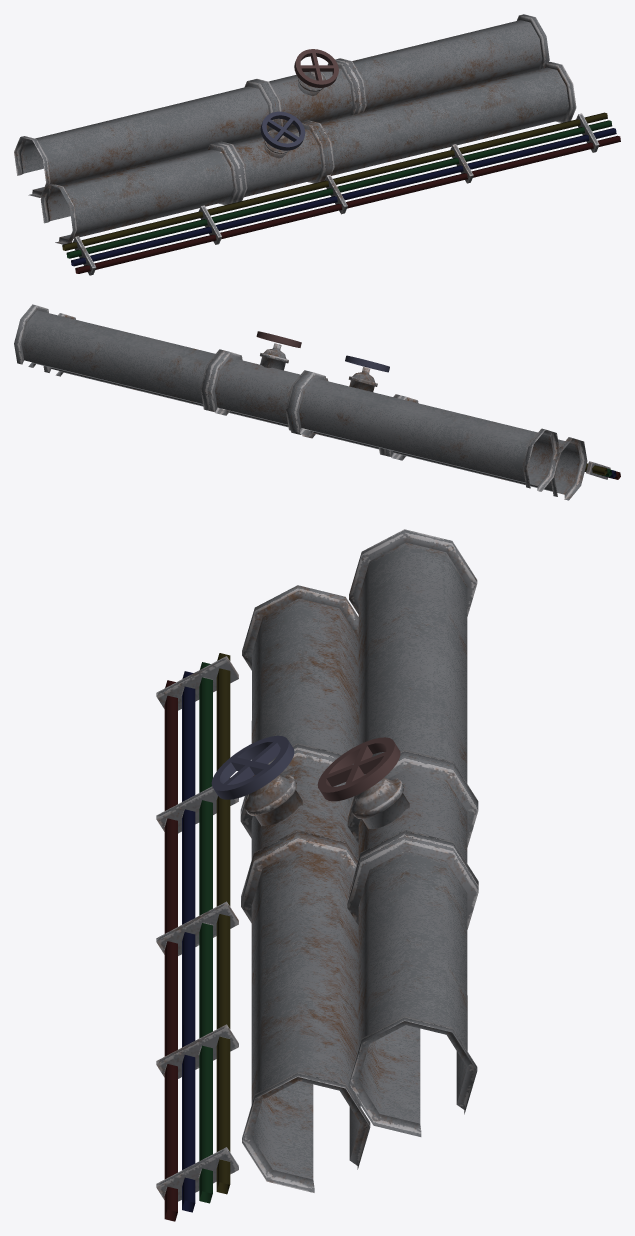
File: PF_StrgPipeNWire.fbx
3 views of the same model, one above another, from view 1: azimuth 30°, elevation 25°; view 2: azimuth 150°, elevation 25°; view 3: azimuth 270°, elevation 25° (orthographic). The views are drawn at different scales.
Visible parts, largest first — view 1: SM_StrgPipeNWire, Wires_001, Cube_016, Cylinder_028, Cylinder_035; view 2: SM_StrgPipeNWire, Cylinder_034, Cylinder_037, Cylinder_028, Cylinder_035; view 3: SM_StrgPipeNWire, Wires_001, Cube_016, Cylinder_035, Cylinder_028, Cylinder_034, Cylinder_037.
Part boxes in pixels (x1=…): SM_StrgPipeNWire: x1=14, y1=14, x2=576, y2=244; Wires_001: x1=62, y1=112, x2=620, y2=273; Cube_016: x1=73, y1=113, x2=599, y2=275; Cylinder_028: x1=294, y1=49, x2=338, y2=87; Cylinder_035: x1=260, y1=111, x2=305, y2=150; SM_StrgPipeNWire: x1=14, y1=304, x2=587, y2=500; Cylinder_034: x1=260, y1=343, x2=288, y2=370; Cylinder_037: x1=348, y1=367, x2=377, y2=391; Cylinder_028: x1=256, y1=331, x2=301, y2=347; Cylinder_035: x1=345, y1=355, x2=389, y2=372; SM_StrgPipeNWire: x1=240, y1=529, x2=478, y2=1192; Wires_001: x1=164, y1=653, x2=230, y2=1221; Cube_016: x1=156, y1=656, x2=238, y2=1201; Cylinder_035: x1=211, y1=735, x2=294, y2=799; Cylinder_028: x1=317, y1=737, x2=400, y2=801; Cylinder_034: x1=351, y1=774, x2=409, y2=828; Cylinder_037: x1=244, y1=775, x2=302, y2=826.
Bounding box in the file's own units: 200 × 41.45 × 51.47.
